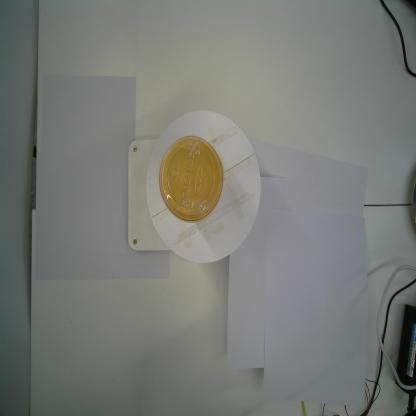Instant Drink: (158, 135, 224, 224)
